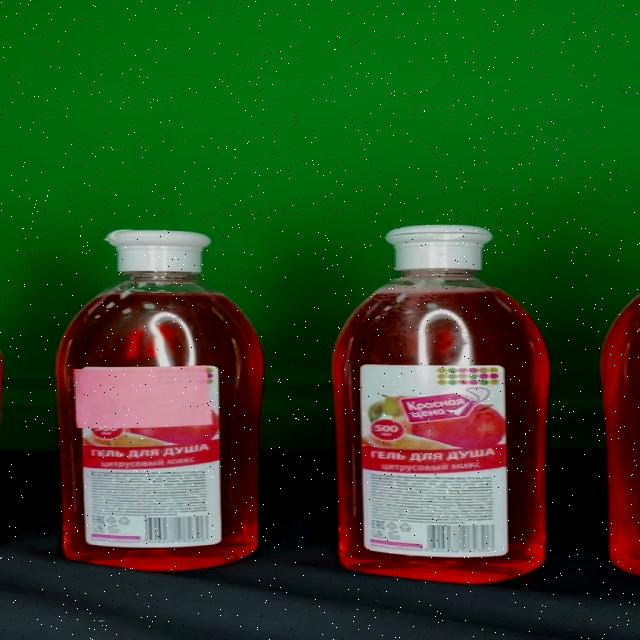Bottle: (332, 226, 551, 584), (56, 230, 264, 572)
Cap: (105, 230, 211, 274), (386, 226, 491, 269)
